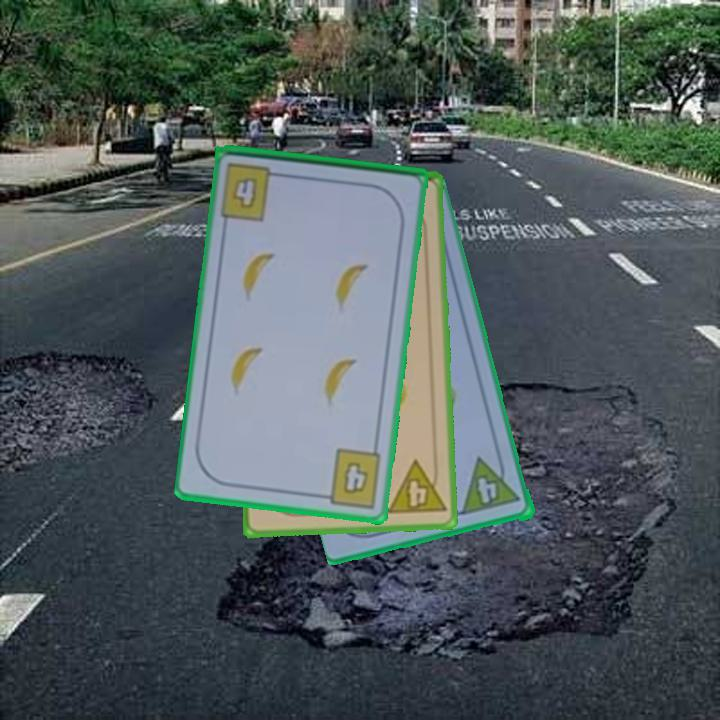4b: (315, 445, 385, 511), (217, 159, 287, 224)
4p: (459, 450, 524, 519), (383, 456, 449, 518)
